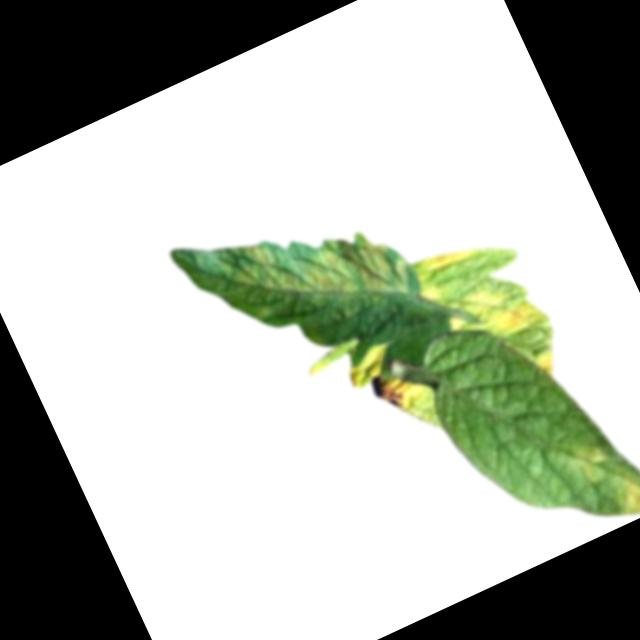Leaf_Mold: (211, 179, 418, 362), (439, 268, 550, 361), (341, 333, 429, 427), (416, 236, 482, 281), (568, 439, 616, 490), (609, 474, 640, 523), (532, 348, 564, 384)
